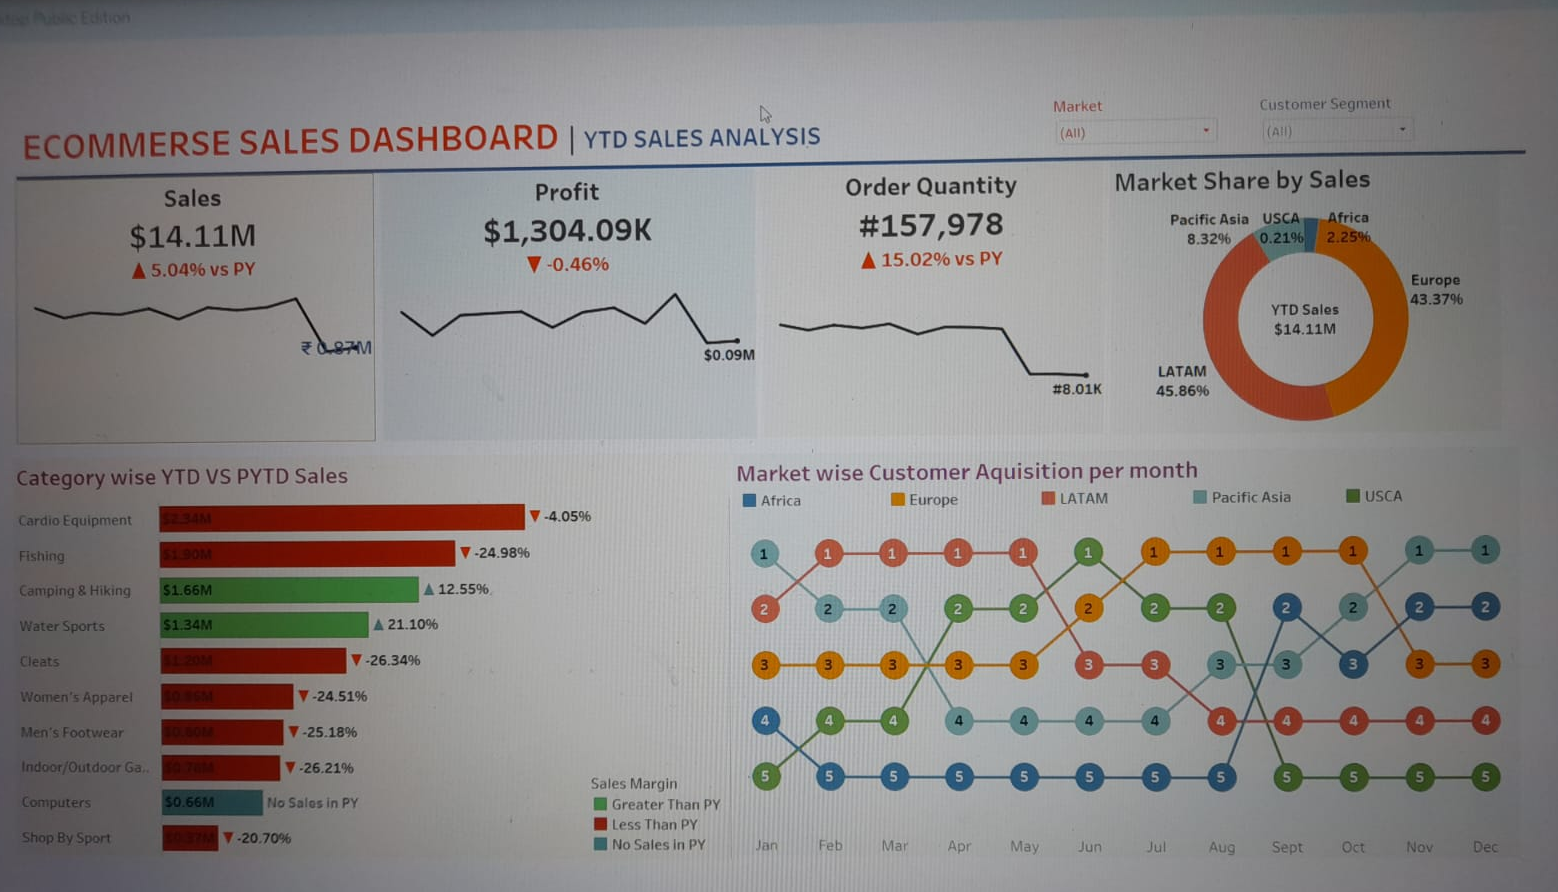

The page's visual inventory and layout, read from the dashboard file:
{"tool":"tableau","page":{"name":"Ecommerse Sales Dashboard","canvas":[1600,850],"ordinal":0},"visuals":[{"type":"title","box":[8,8,1584,63]},{"type":"filter","title":"Sales KPI","param":"[federated.0mb8c8m0tdj0is16cg1j20jf03wv].[none:Market:nk]","box":[1110,9,171,54]},{"type":"filter","title":"Sales KPI","param":"[federated.0mb8c8m0tdj0is16cg1j20jf03wv].[none:Customer Segment:nk]","box":[1321,11,160,53]},{"type":"blank","box":[8,71,1584,6]},{"type":"worksheet","title":"Sales KPI","mark":"Automatic","rows":["Sales"],"cols":["Order Date"],"box":[8,76,390,283]},{"type":"worksheet","title":"Profit KPI","mark":"Automatic","rows":["Profit Per Order"],"cols":["Order Date"],"box":[406,77,395,282]},{"type":"worksheet","title":"Order Quantity KPI","mark":"Automatic","rows":["Order Quantity"],"cols":["Order Date"],"box":[808,77,352,281]},{"type":"worksheet","title":"Market Share by Sales","mark":"Pie","cols":["Calculation_1120270420633886736","Calculation_1120270420633886736"],"box":[1168,77,396,282]},{"type":"worksheet","title":"Category wise YTD VS PYTD Sales","mark":"Bar","rows":["Category Name"],"cols":["Calculation_1120270420636278801","Calculation_1120270420636278801"],"box":[3,374,769,426]},{"type":"worksheet","title":"Market wise Customer Aquisition per month","mark":"Automatic","cols":["Order Date"],"box":[775,375,807,421]},{"type":"legend","title":"Market wise Customer Aquisition per month","param":"[federated.0mb8c8m0tdj0is16cg1j20jf03wv].[none:Market:nk]","box":[783,414,786,32]},{"type":"legend","title":"Category wise YTD VS PYTD Sales","param":"[federated.0mb8c8m0tdj0is16cg1j20jf03wv].[usr:Calculation_1120270420645384212:nk","box":[624,710,142,85]}]}

Visuals, with their boxes on the page's 1600x850 design canvas (x1, y1, x2, y2). These are canvas units, not pixel positions in the 1558x892 screenshot, which may show the page scaled, cropped or inside an application window:
title: select_region(8, 8, 1592, 71)
"Sales KPI" filter: select_region(1110, 9, 1281, 63)
"Sales KPI" filter: select_region(1321, 11, 1481, 64)
blank: select_region(8, 71, 1592, 77)
"Sales KPI" worksheet: select_region(8, 76, 398, 359)
"Profit KPI" worksheet: select_region(406, 77, 801, 359)
"Order Quantity KPI" worksheet: select_region(808, 77, 1160, 358)
"Market Share by Sales" worksheet (Pie marks): select_region(1168, 77, 1564, 359)
"Category wise YTD VS PYTD Sales" worksheet (Bar marks): select_region(3, 374, 772, 800)
"Market wise Customer Aquisition per month" worksheet: select_region(775, 375, 1582, 796)
"Market wise Customer Aquisition per month" legend: select_region(783, 414, 1569, 446)
"Category wise YTD VS PYTD Sales" legend: select_region(624, 710, 766, 795)
